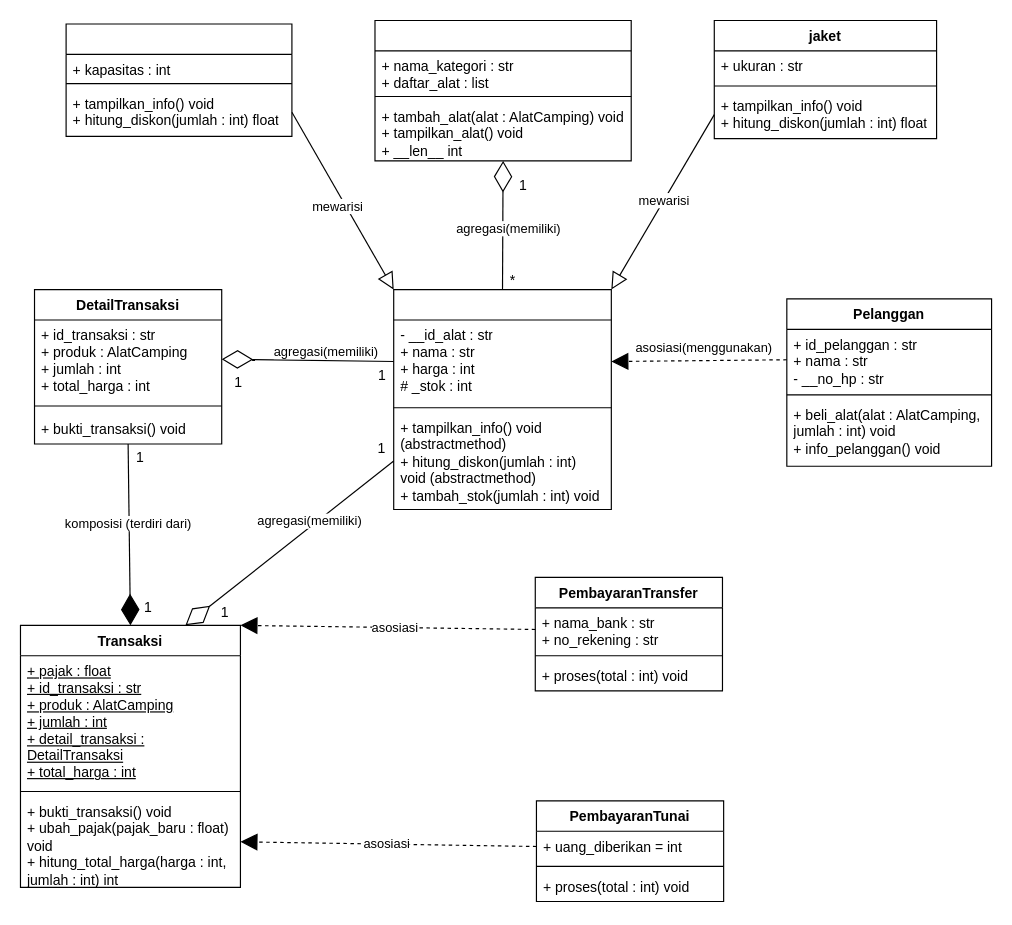
The diagram is 1012 pixels wide and 925 high, and some of its shapes have lost their labels. Each missing label, with the box of its shape:
AlatCamping(ABC): (393, 288, 611, 510)
Kategori_Alat: (374, 19, 631, 161)
tenda: (65, 23, 292, 136)
